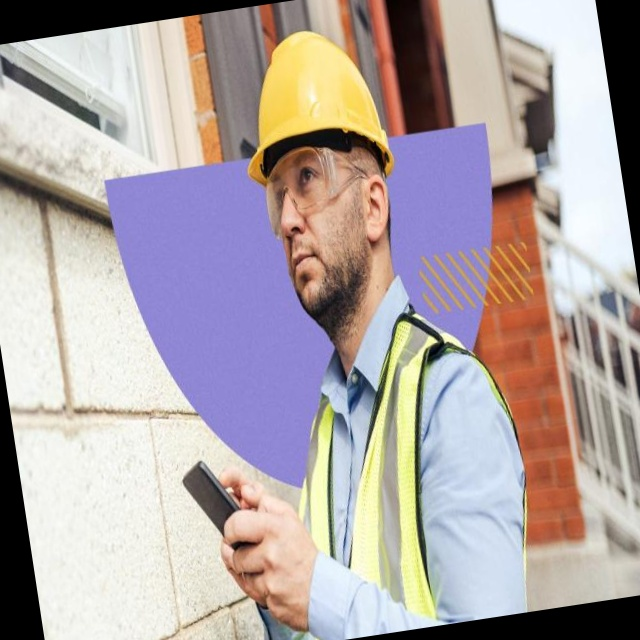goggles: (231, 144, 358, 238)
helmet: (221, 28, 371, 189)
vest: (138, 324, 381, 640)
